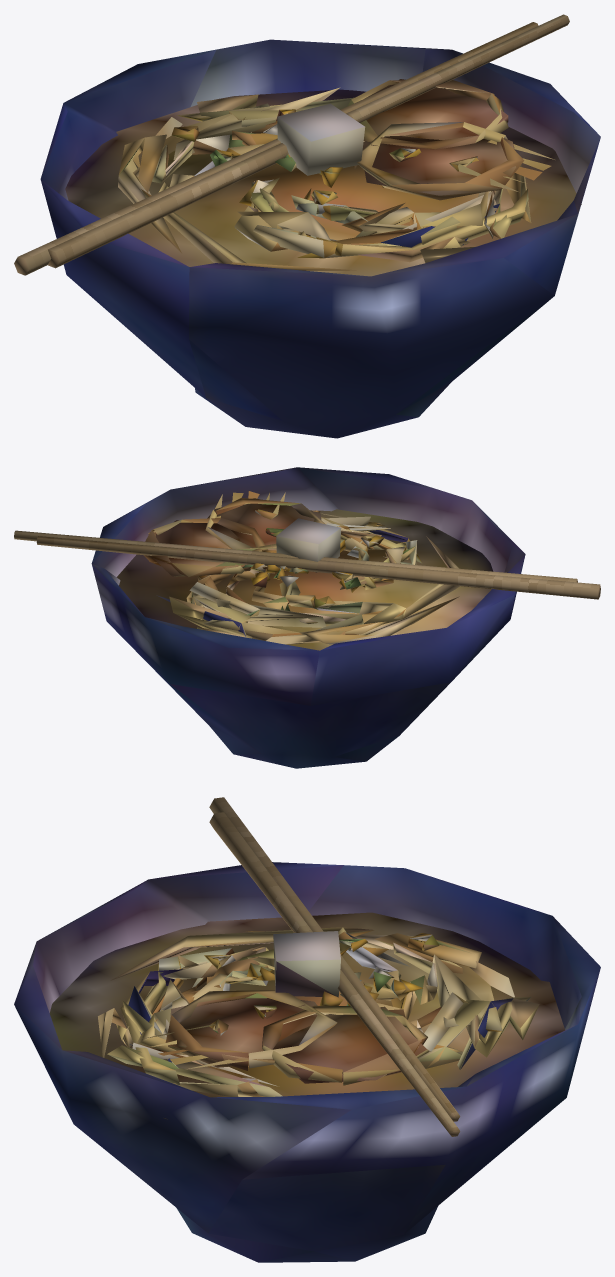
Rendered from ramen_miso.glb.
The picture shows the model from 3 angles, top to bottom: view 1: azimuth 30°, elevation 25°; view 2: azimuth 150°, elevation 25°; view 3: azimuth 270°, elevation 25°; orthographic projection. The views are drawn at different scales.
Parts seen in each view (by area): view 1: prop_ramen_miso_felt, prop_ramen_miso_wood; view 2: prop_ramen_miso_felt, prop_ramen_miso_wood; view 3: prop_ramen_miso_felt, prop_ramen_miso_wood.
Part boxes in pixels (x1=…): prop_ramen_miso_felt: x1=40, y1=39, x2=600, y2=438; prop_ramen_miso_wood: x1=14, y1=14, x2=569, y2=275; prop_ramen_miso_felt: x1=91, y1=467, x2=525, y2=768; prop_ramen_miso_wood: x1=14, y1=530, x2=600, y2=599; prop_ramen_miso_felt: x1=14, y1=862, x2=600, y2=1262; prop_ramen_miso_wood: x1=209, y1=797, x2=460, y2=1136.
Bounding box in the file's own units: 0.3955 × 0.1505 × 0.299.
2 materials, 2 textured.
